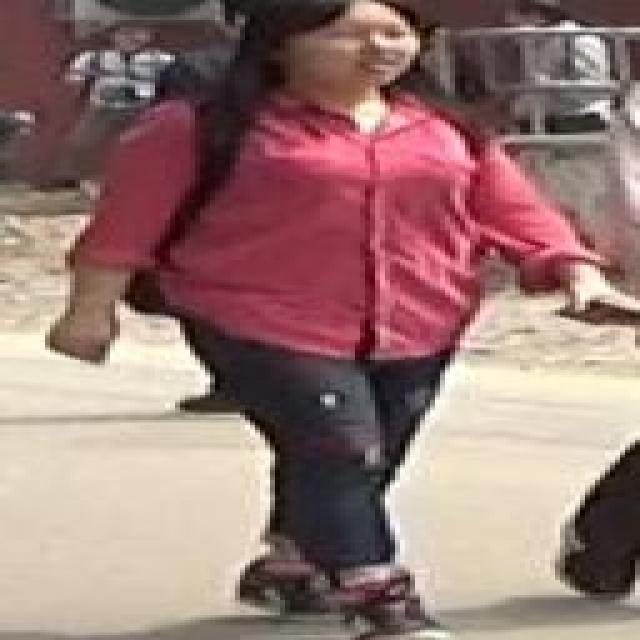adult: (60, 0, 618, 622), (54, 25, 184, 189)
